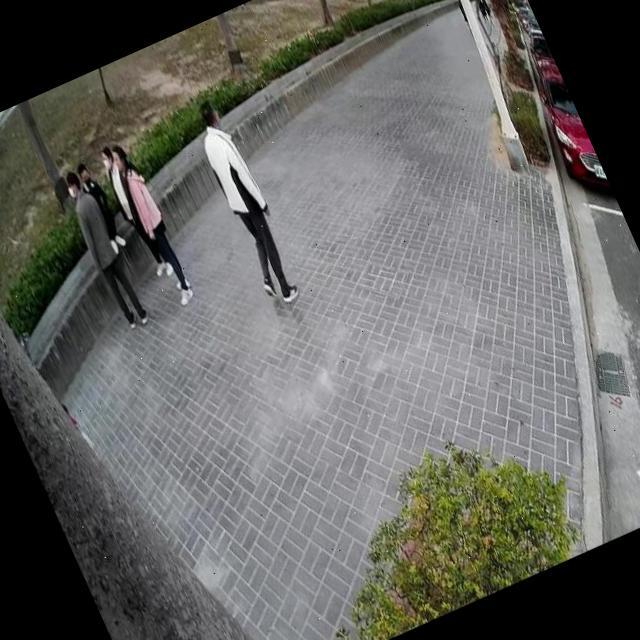person: (178, 85, 310, 312), (52, 160, 154, 333), (104, 132, 199, 307), (89, 136, 178, 286), (70, 156, 132, 258)
